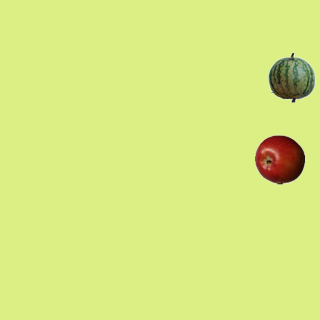Apple Braeburn: (254, 134, 304, 184)
Watermelon: (266, 52, 316, 102)
